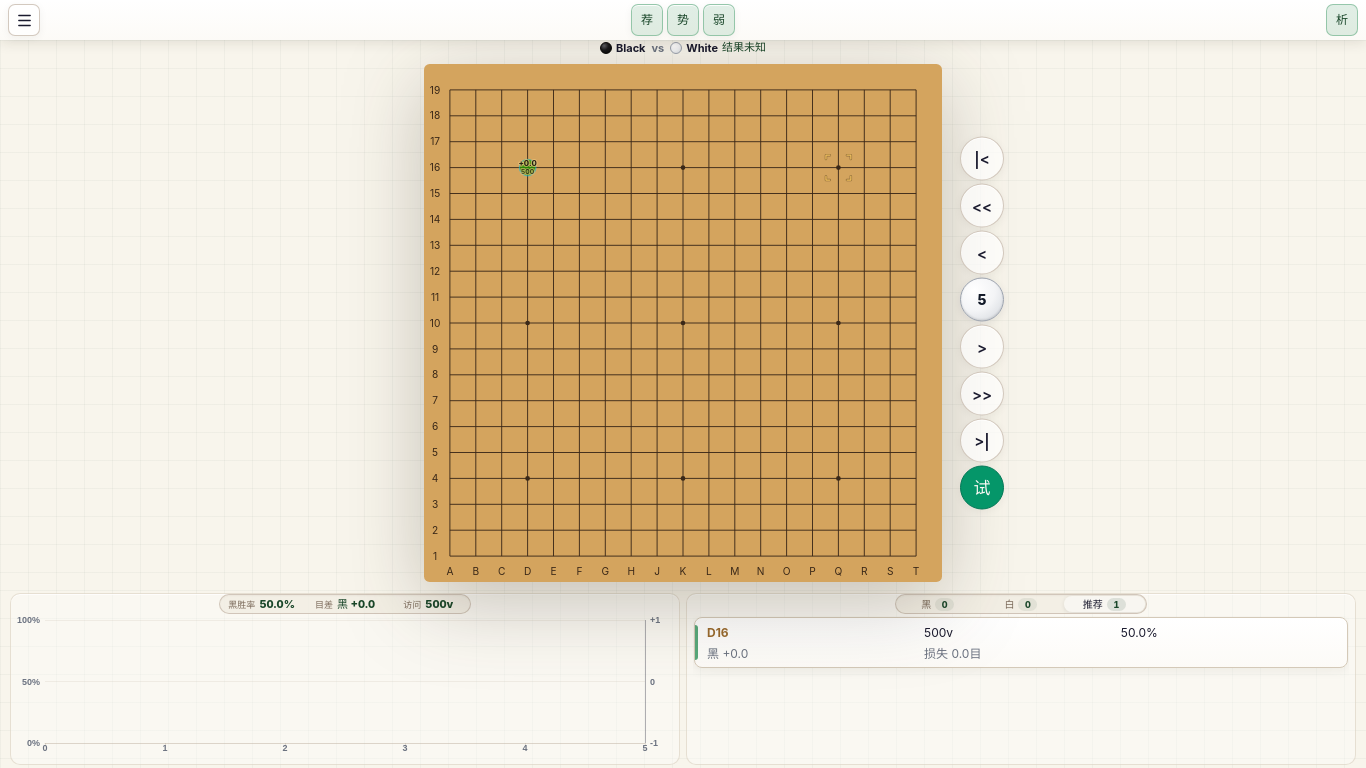
Test case: App variation navigation › lets a server trial branch override the local preview-only mode
This screenshot has width=1366, height=768.
Click the button named "Switch to AI preview mode" at point(982, 488), box [960, 466, 1004, 510]
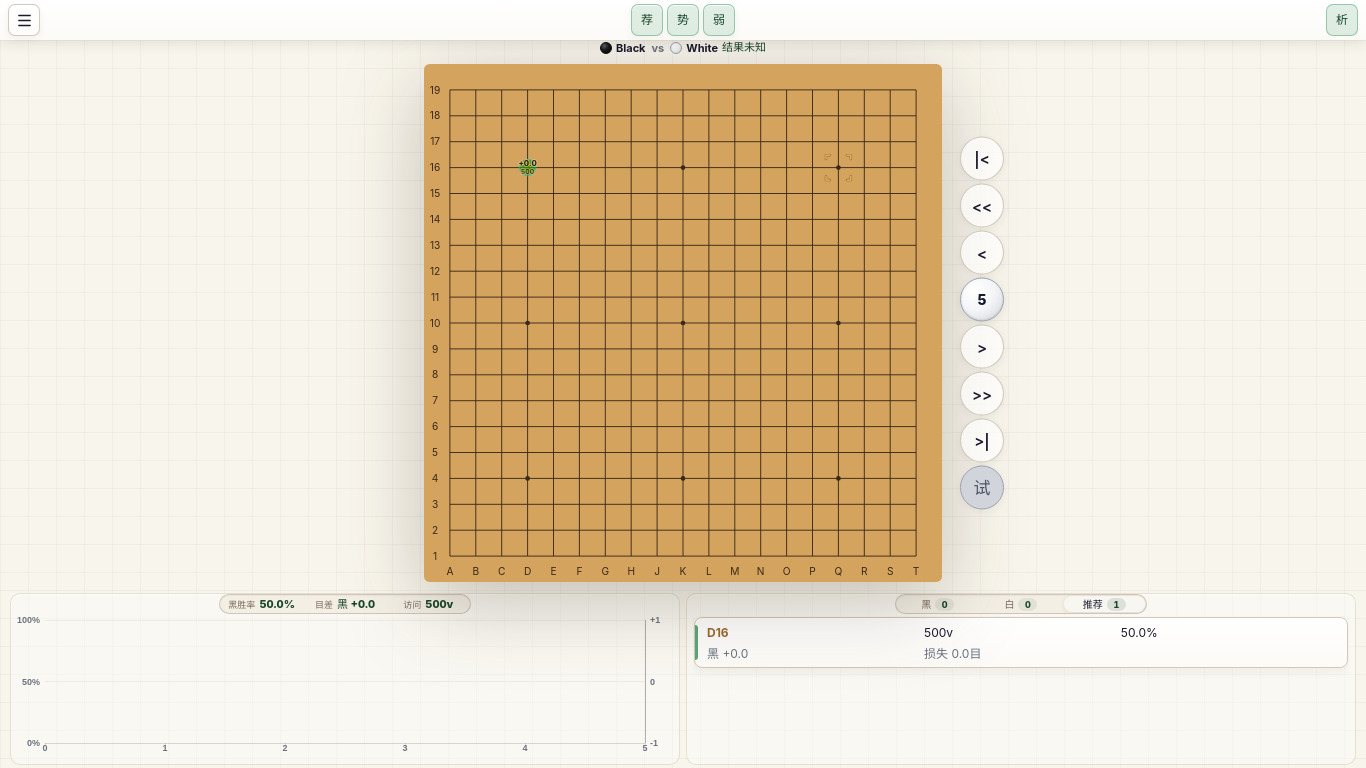
Click the button named "Next move" at point(982, 346), box [960, 324, 1004, 368]
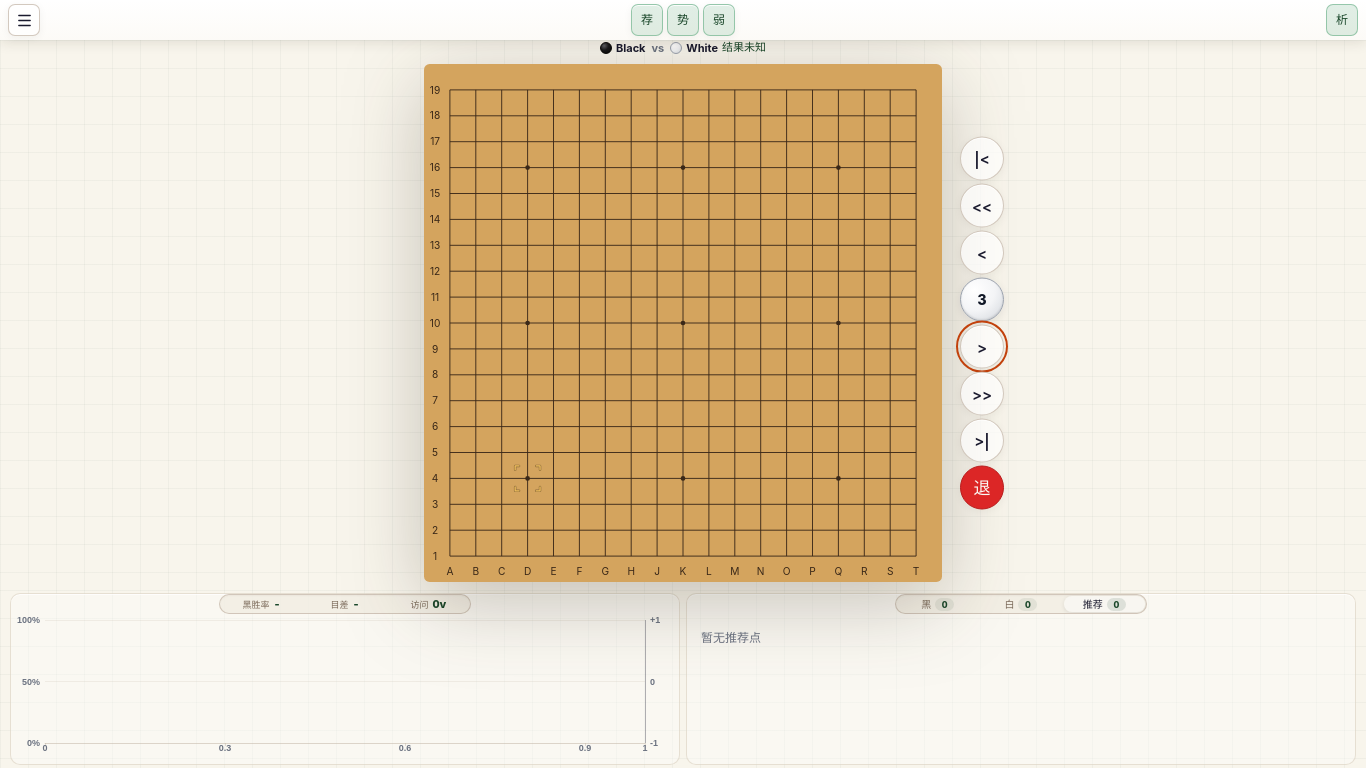
Expected: the field labelled "Try move D4" is shown, [515, 466, 541, 491]
Now the button named "Exit try mode" reads "退", box [960, 466, 1004, 510]
